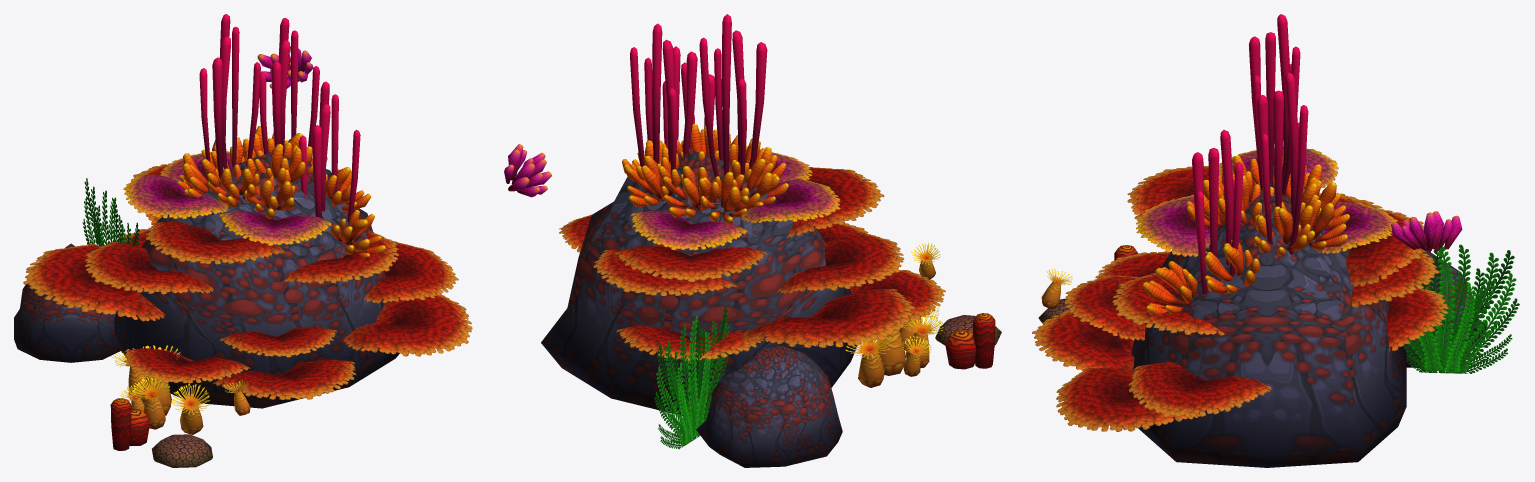
File: CoralSet_08.FBX
The picture shows the model from 3 angles, left to right: view 1: azimuth 30°, elevation 25°; view 2: azimuth 150°, elevation 25°; view 3: azimuth 270°, elevation 25°; orthographic projection. The views are drawn at different scales.
Visible parts, largest first — view 1: Plane188, Box006, Plane228, Line173, Line172, Line174, Plane346, Sphere058, Line286, Line278, Line039, Line285 (+9 smaller); view 2: Box006, Plane188, Plane228, Plane346, Line173, Line172, Line281, Line282, Line223, Line280, Line279, Line174 (+11 smaller); view 3: Box006, Plane188, Plane346, Plane228, Line172, Line174, Line173, Line223, Line286, Line284, Line282, Line283 (+4 smaller).
Boxes of the visible parts, x1,y1,x2,y2 form: Plane188: [23, 163, 472, 399]; Box006: [14, 152, 399, 408]; Plane228: [123, 151, 331, 245]; Line173: [199, 14, 260, 179]; Line172: [259, 18, 319, 163]; Line174: [299, 81, 360, 222]; Plane346: [82, 178, 139, 246]; Sphere058: [152, 434, 212, 467]; Line286: [330, 210, 385, 256]; Line278: [208, 158, 259, 207]; Line039: [244, 170, 295, 219]; Line285: [254, 144, 305, 186]; Box006: [541, 150, 857, 467]; Plane188: [559, 167, 945, 361]; Plane228: [631, 152, 840, 250]; Plane346: [654, 304, 729, 449]; Line173: [699, 14, 767, 190]; Line172: [630, 23, 697, 174]; Line281: [663, 165, 720, 218]; Line282: [627, 155, 680, 206]; Line223: [504, 144, 551, 197]; Line280: [700, 171, 760, 225]; Line279: [730, 158, 788, 207]; Line174: [652, 46, 714, 150]; Box006: [1132, 183, 1486, 467]; Plane188: [1032, 166, 1448, 431]; Plane346: [1404, 244, 1519, 373]; Plane228: [1136, 147, 1398, 256]; Line172: [1256, 72, 1308, 254]; Line174: [1192, 130, 1243, 294]; Line173: [1249, 14, 1300, 195]; Line223: [1391, 211, 1462, 252]; Line286: [1142, 261, 1197, 315]; Line284: [1204, 240, 1260, 293]; Line282: [1290, 195, 1347, 250]; Line283: [1254, 202, 1310, 256].
Size of the model in its own units: 387 by 342 by 394.
